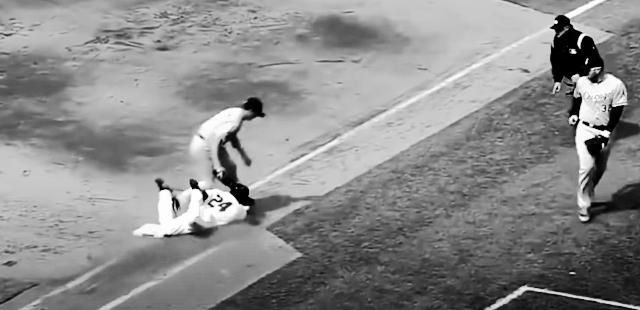jatuh: (151, 172, 259, 244)
